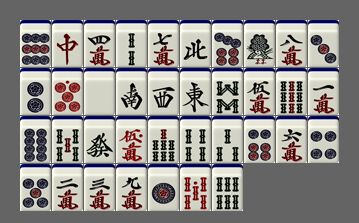0m: (116, 116, 147, 163)
0p: (52, 68, 83, 115)
0s: (180, 164, 211, 211)
1m: (308, 68, 339, 115)
1p: (148, 164, 179, 211)
1s: (244, 20, 275, 67)
1z: (180, 68, 211, 115)
2m: (52, 164, 83, 211)
2p: (20, 68, 51, 115)
2s: (116, 20, 147, 67)
2z: (116, 68, 147, 115)
3m: (84, 164, 115, 211)
3p: (308, 20, 339, 67)
3s: (212, 116, 243, 163)
3z: (148, 68, 179, 115)
4m: (84, 20, 115, 67)
4p: (308, 116, 339, 163)
4s: (180, 116, 211, 163)
4z: (180, 20, 211, 67)
5m: (244, 68, 275, 115)
5p: (20, 164, 51, 211)
5s: (52, 116, 83, 163)
5z: (84, 68, 115, 115)
6m: (276, 116, 307, 163)
6p: (244, 116, 275, 163)
6s: (212, 164, 243, 211)
6z: (84, 116, 115, 163)
7m: (148, 20, 179, 67)
7p: (212, 20, 243, 67)
7s: (148, 116, 179, 163)
7z: (52, 20, 83, 67)
8m: (276, 20, 307, 67)
8p: (20, 116, 51, 163)
8s: (212, 68, 243, 115)
9m: (116, 164, 147, 211)
9p: (20, 20, 51, 67)
9s: (276, 68, 307, 115)
